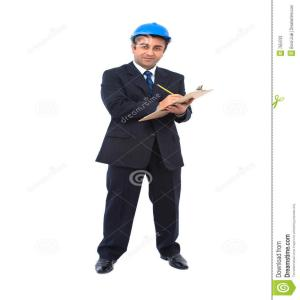blue: (127, 22, 173, 67)
